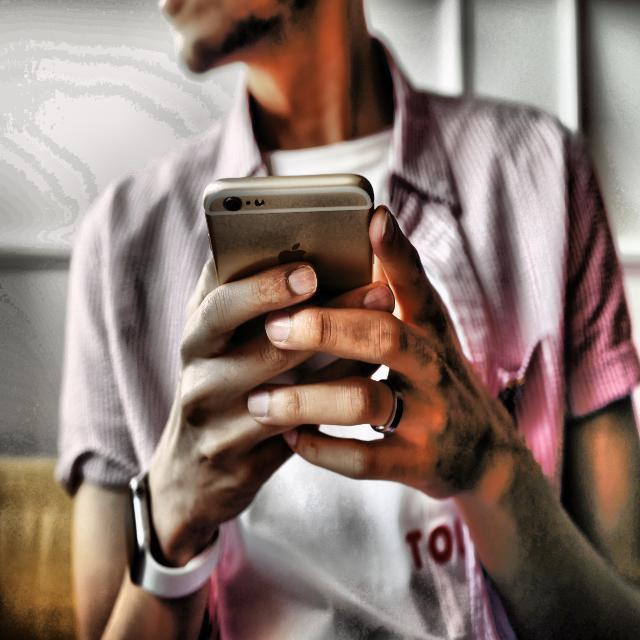Phone: (204, 170, 378, 304)
